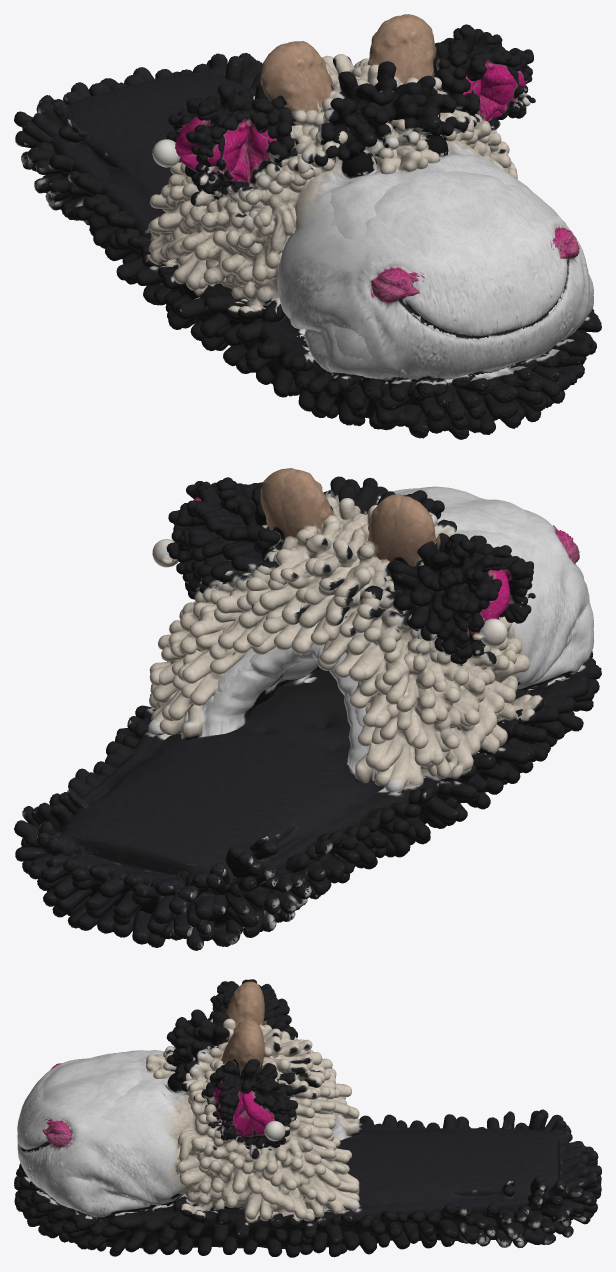
The model's file is slippers_cow_mule.glb.
3 views of the same model, one above another, from view 1: azimuth 30°, elevation 25°; view 2: azimuth 150°, elevation 25°; view 3: azimuth 270°, elevation 25° (orthographic). The views are drawn at different scales.
Visible parts, largest first — view 1: Slipper_L_cow_mule, Slipper_R_cow_mule; view 2: Slipper_L_cow_mule, Slipper_R_cow_mule; view 3: Slipper_R_cow_mule, Slipper_L_cow_mule.
Boxes of the visible parts, x1=… form: Slipper_L_cow_mule: x1=14, y1=15, x2=593, y2=439; Slipper_R_cow_mule: x1=30, y1=14, x2=601, y2=438; Slipper_L_cow_mule: x1=24, y1=470, x2=601, y2=950; Slipper_R_cow_mule: x1=14, y1=468, x2=593, y2=944; Slipper_R_cow_mule: x1=14, y1=983, x2=601, y2=1257; Slipper_L_cow_mule: x1=14, y1=979, x2=601, y2=1256.
Size of the model in its own units: 0.1347 by 0.1091 by 0.2696.
Materials: 1 (1 with a texture image).
